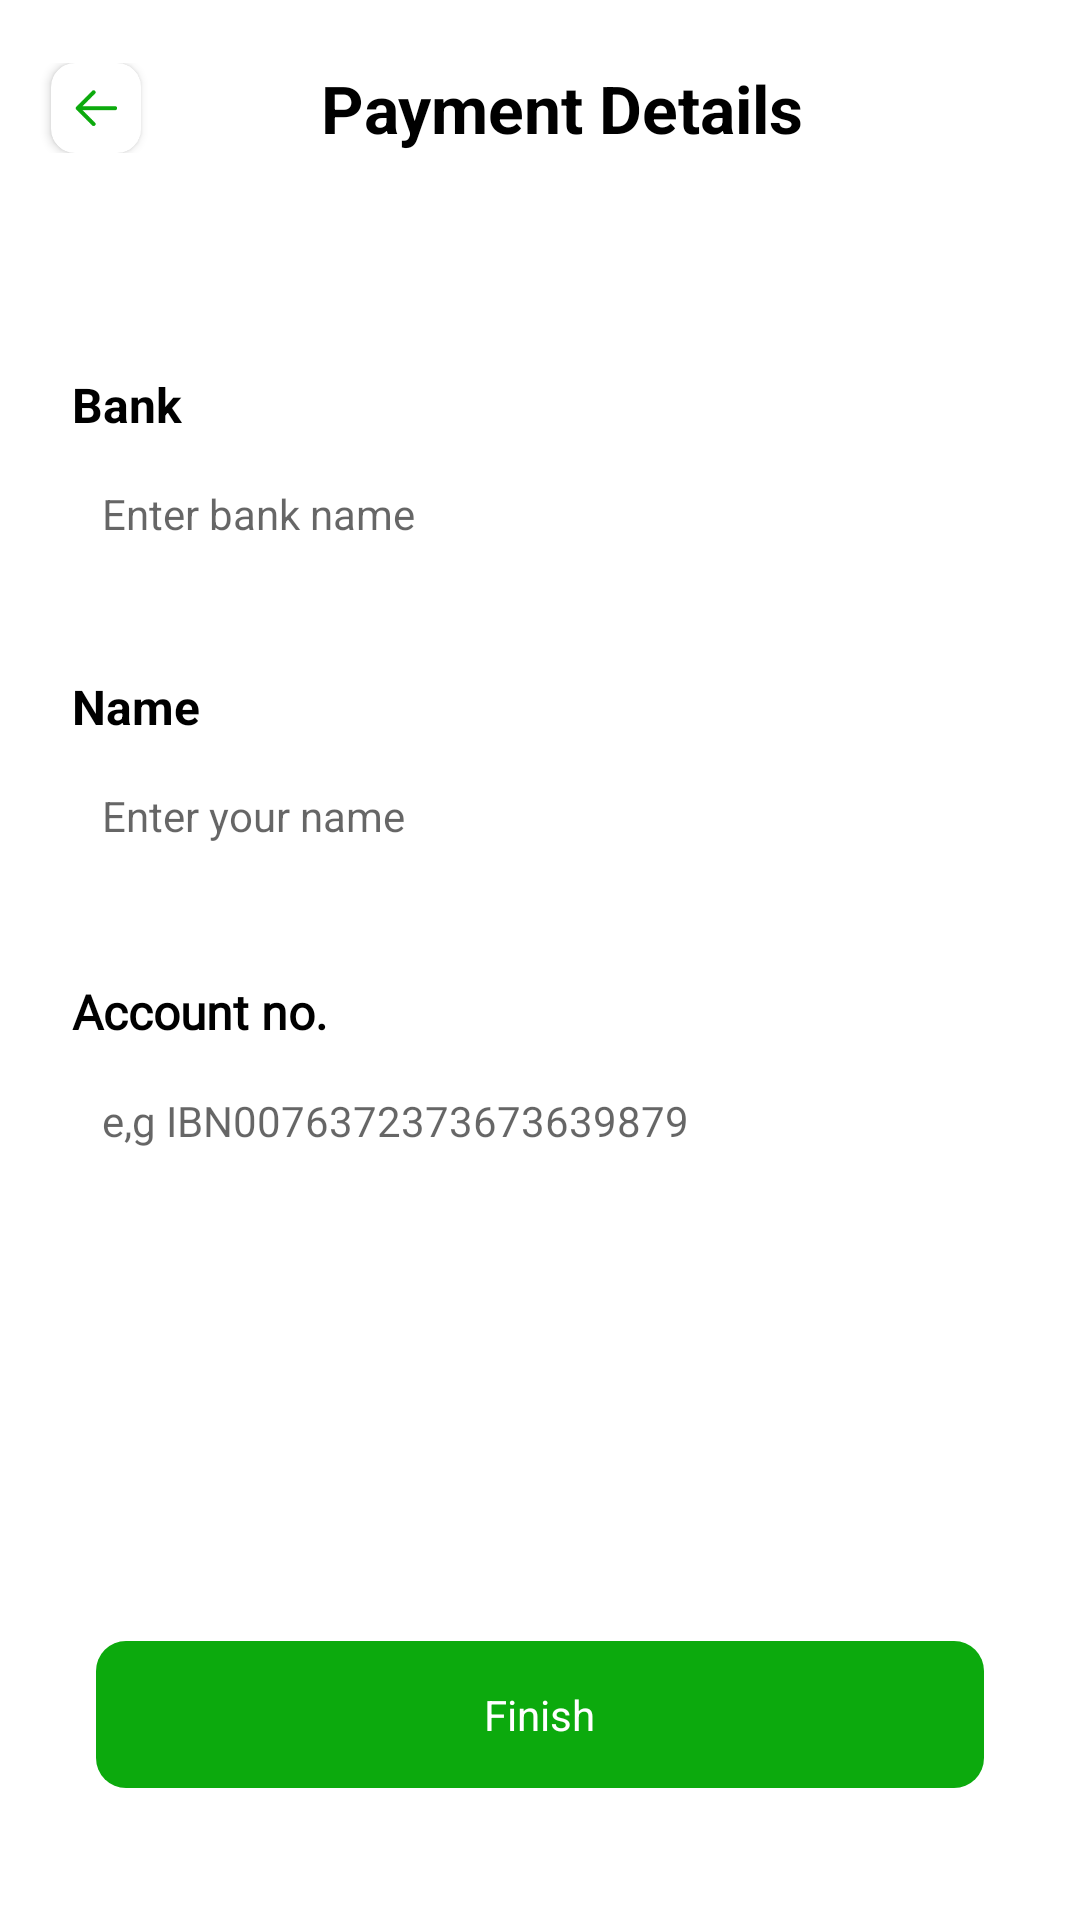

Icon bounding boxes for this 1080 × 1920 phone screenshot, format rect(x1, y1, x2, y2):
arrow back: rect(51, 66, 117, 153)
